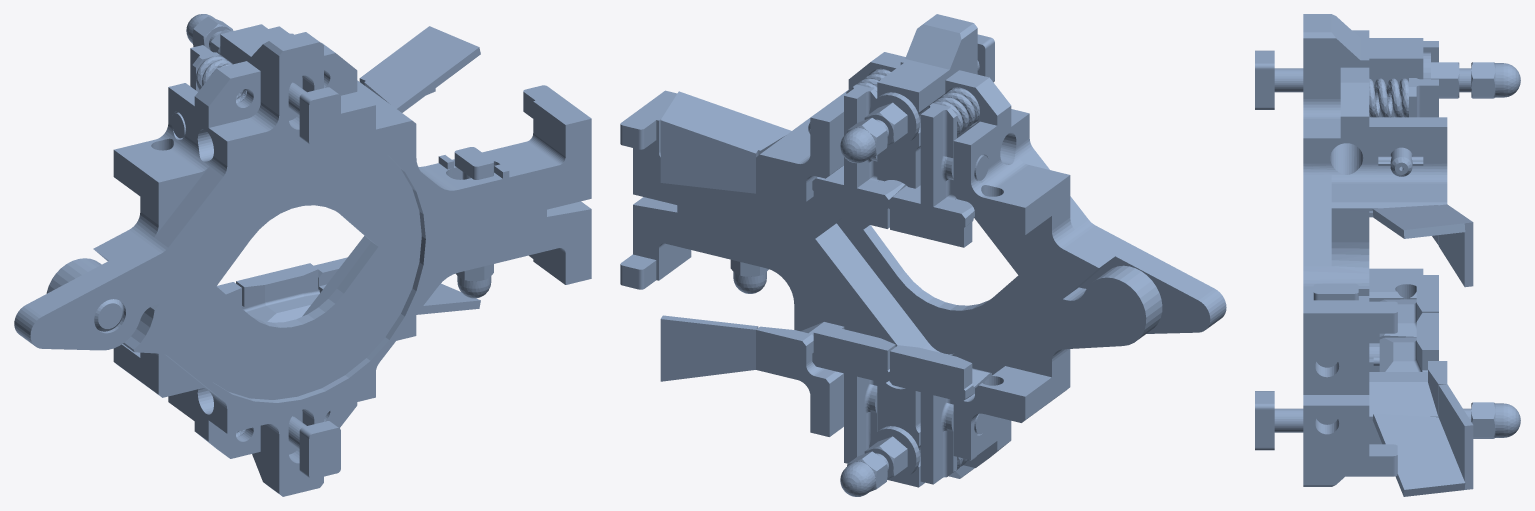
File: cnc_plate.glb
The picture shows the model from 3 angles, left to right: view 1: azimuth 30°, elevation 25°; view 2: azimuth 150°, elevation 25°; view 3: azimuth 270°, elevation 25°; orthographic projection.
Visible parts, largest first — view 1: part_1, part_0, part_19, part_2, part_23, part_17, part_15, part_16, part_20, part_25, part_13; view 2: part_0, part_1, part_5, part_3, part_2, part_18, part_14, part_4, part_19, part_24, part_21, part_25 (+4 smaller); view 3: part_1, part_0, part_15, part_2, part_19, part_23, part_14, part_17, part_3, part_18, part_25, part_22 (+5 smaller).
Boxes of the visible parts, x1,y1,x2,y2 form: part_1: (14, 24, 591, 350); part_0: (46, 201, 591, 496); part_19: (364, 29, 480, 112); part_2: (236, 263, 319, 322); part_23: (209, 31, 340, 145); part_17: (288, 416, 340, 479); part_15: (416, 283, 480, 314); part_16: (454, 147, 493, 179); part_20: (456, 264, 493, 298); part_25: (186, 14, 233, 49); part_13: (196, 56, 246, 103); part_0: (620, 197, 1162, 487); part_1: (620, 14, 1226, 333); part_5: (888, 103, 974, 247); part_3: (888, 345, 991, 484); part_2: (812, 326, 895, 463); part_18: (660, 116, 758, 193); part_14: (660, 315, 758, 381); part_4: (812, 84, 906, 228); part_19: (663, 91, 791, 155); part_24: (864, 92, 919, 145); part_21: (864, 426, 919, 479); part_25: (840, 118, 887, 163); part_1: (1303, 14, 1447, 394); part_0: (1303, 268, 1447, 486); part_15: (1372, 413, 1465, 496); part_2: (1373, 313, 1438, 371); part_19: (1372, 205, 1465, 238); part_23: (1255, 50, 1471, 109); part_14: (1438, 384, 1473, 489); part_17: (1255, 391, 1471, 450); part_3: (1379, 275, 1438, 339); part_18: (1438, 204, 1473, 287); part_25: (1471, 62, 1520, 98); part_22: (1471, 402, 1520, 438).
Bounding box in the file's own units: 2.4 × 1.82 × 0.965.
